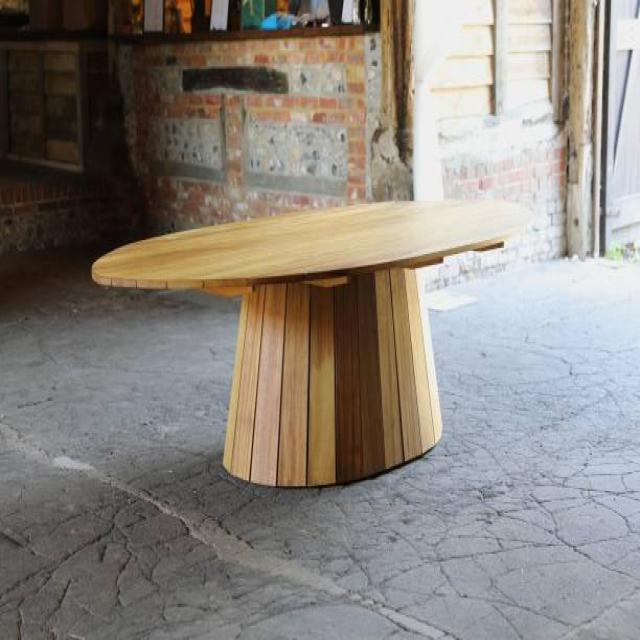table: (90, 196, 532, 488)
